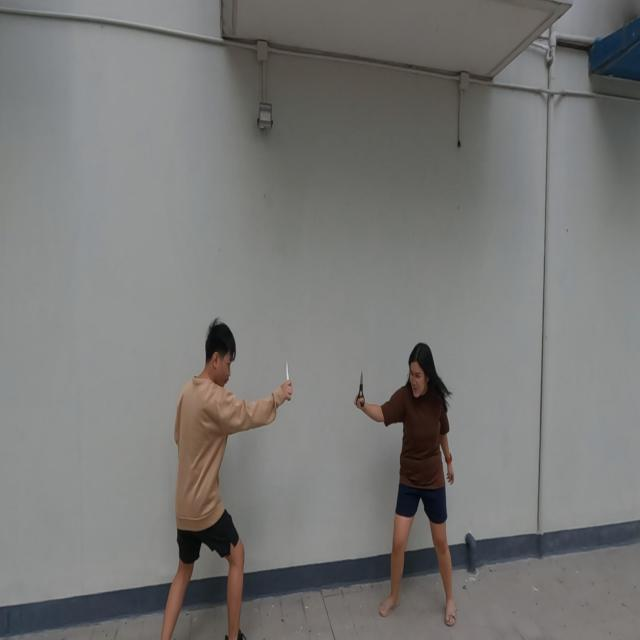scissor: (356, 371, 365, 409)
